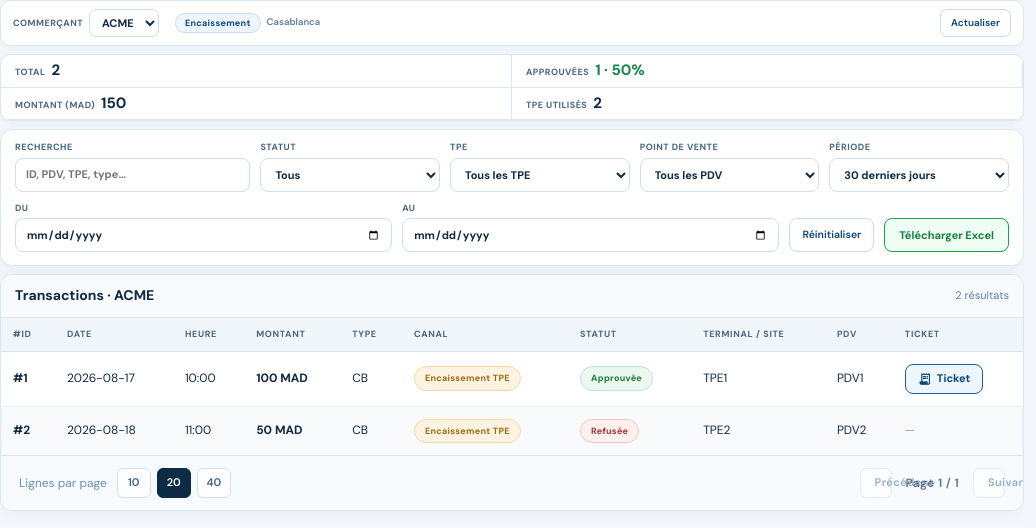
it: SupervisorTransactionsPage › filtre par plage de dates (Du/Au), prioritaire sur le preset Période
The width and height of the screenshot is (1036, 528).
Expected: the text "#1" is shown, [13,370,28,386]
In the date field labelled "Du": (204, 235) [15,218,392,252], type "2026-08-18"
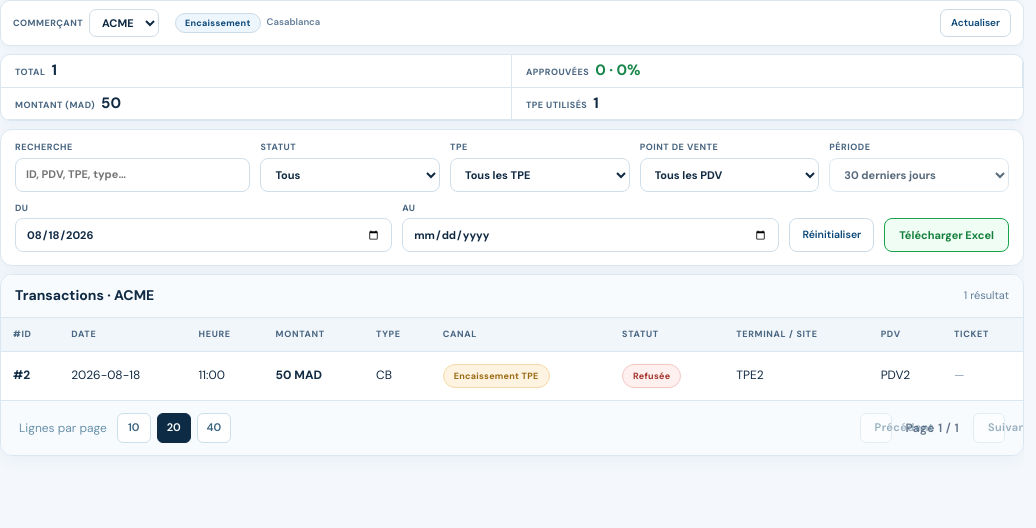
Expected: the text "#2" is shown, [13,368,30,384]
Result: the text "#1" is gone
